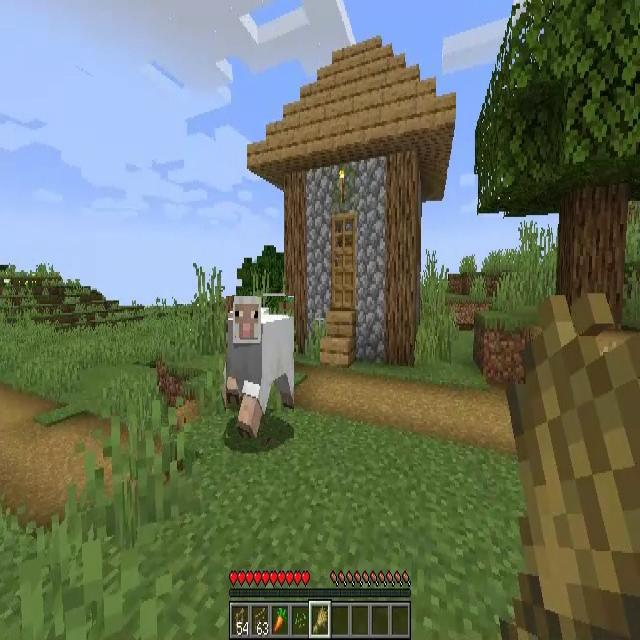sheep: (226, 296, 294, 438)
